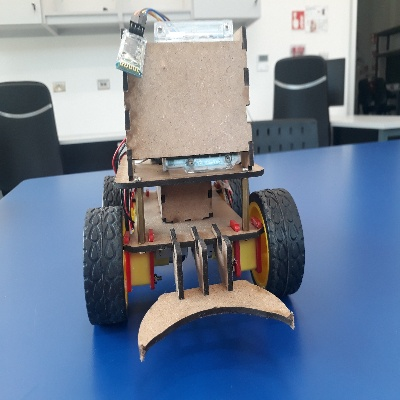Robot: (82, 20, 306, 364)
